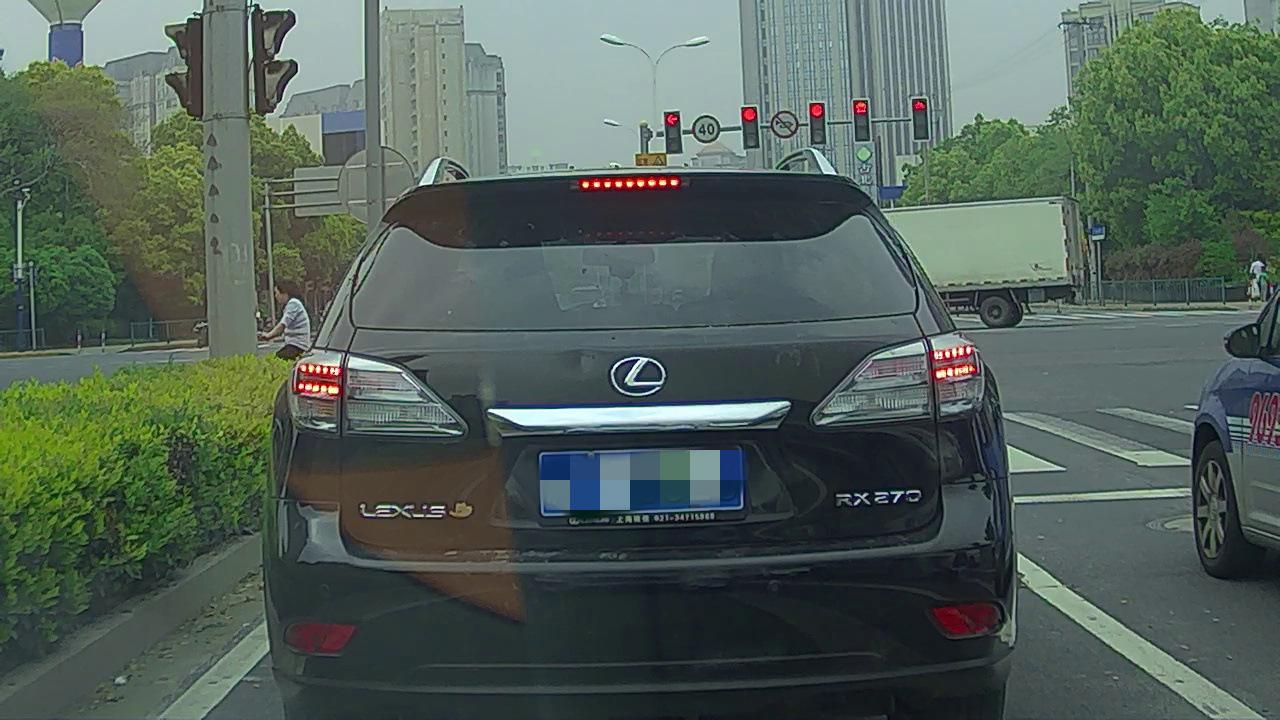traffic_light: (740, 105, 760, 151), (808, 101, 828, 144), (664, 110, 683, 154), (854, 98, 871, 143), (912, 98, 929, 141)
